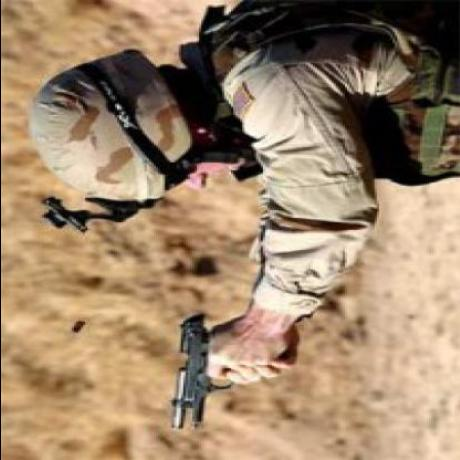1: (30, 0, 460, 386)
weapon: (168, 300, 298, 434)
